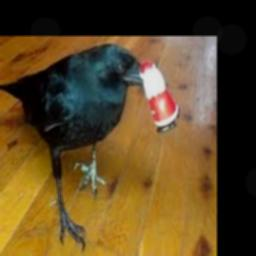Crow: (0, 43, 157, 250)
